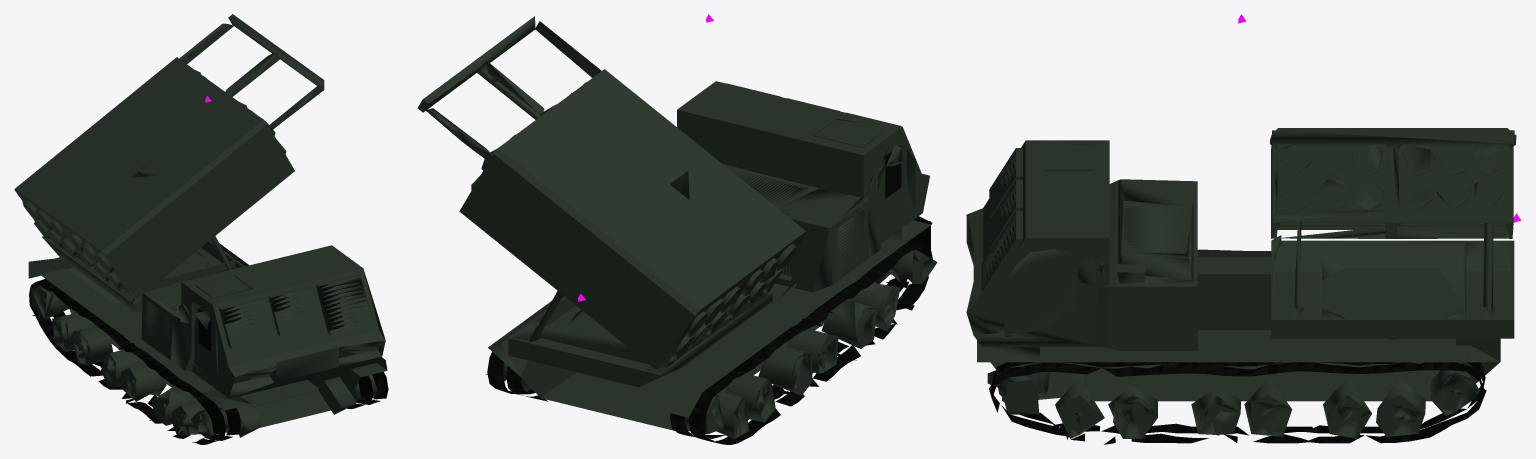
The model's file is mlrs.glb.
3 renders of one model, left to right at view 1: azimuth 30°, elevation 25°; view 2: azimuth 150°, elevation 25°; view 3: azimuth 270°, elevation 25°, orthographic. The views are drawn at different scales.
Parts seen in each view (by area): view 1: Body_1, Body_6, Body_5, Body_2; view 2: Body_1, Body_6, Body_2, Body_5; view 3: Body_1, Body_2.
Boxes of the visible parts, bbox=[...] form: Body_1: bbox=[14, 14, 387, 438]; Body_6: bbox=[29, 278, 240, 444]; Body_5: bbox=[198, 280, 362, 351]; Body_2: bbox=[347, 372, 388, 408]; Body_1: bbox=[417, 16, 937, 438]; Body_6: bbox=[670, 241, 932, 444]; Body_2: bbox=[485, 218, 930, 401]; Body_5: bbox=[885, 145, 901, 198]; Body_1: bbox=[966, 128, 1516, 438]; Body_2: bbox=[989, 362, 1486, 444].
Size of the model in its own units: 10.06 by 12.04 by 16.15.
7 materials, 6 textured.
